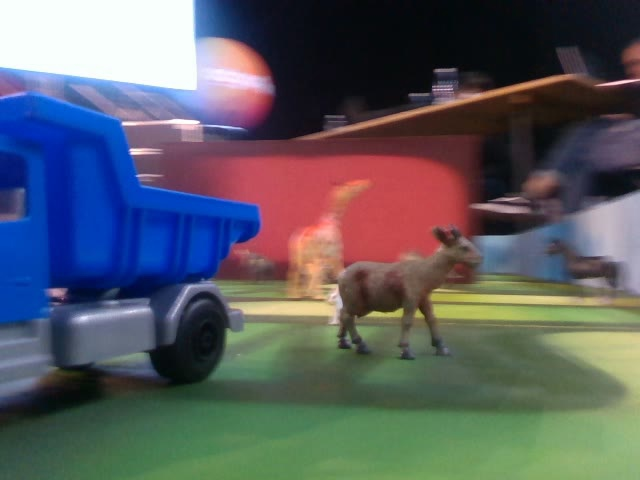toy: (334, 219, 489, 361)
